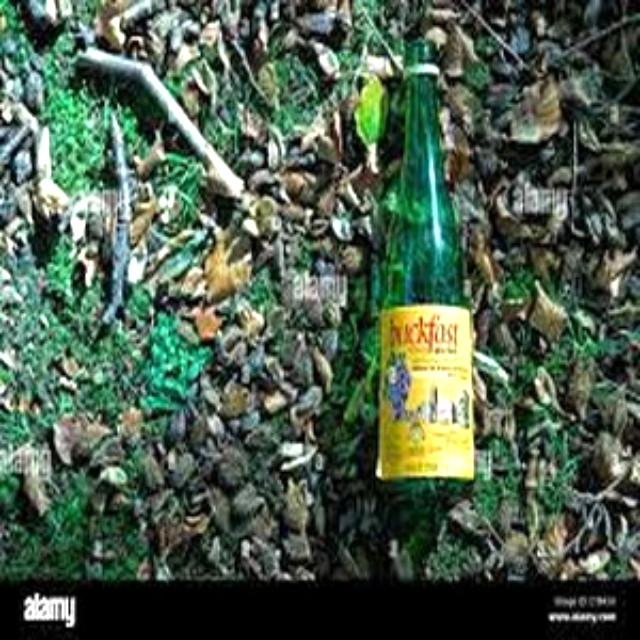Glass: (372, 34, 472, 500)
